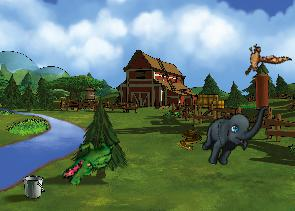crocodile: (59, 126, 120, 195)
eagle: (233, 31, 292, 87)
elephant: (198, 93, 269, 174)
